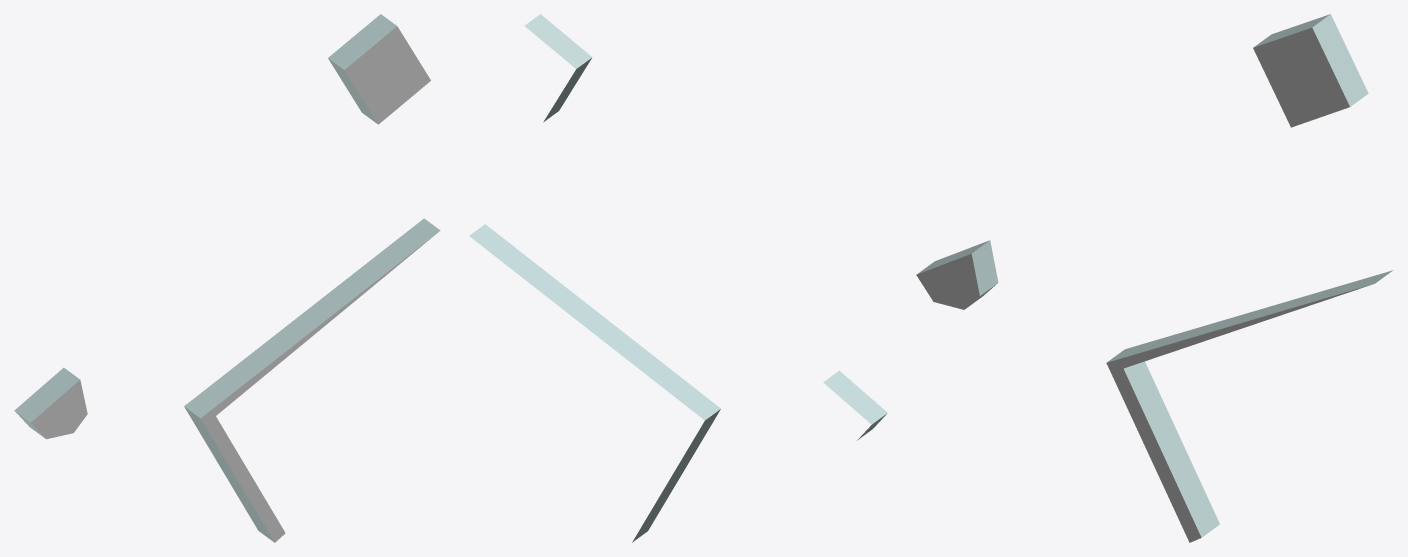
The picture shows the model from 3 angles, left to right: view 1: azimuth 30°, elevation 25°; view 2: azimuth 150°, elevation 25°; view 3: azimuth 330°, elevation 25°; orthographic projection. The views are drawn at different scales.
Parts seen in each view (by area): view 1: 0_1_2_1_0_2_0_1_0; view 2: 0_1_2_1_0_2_0_1_0; view 3: 0_1_2_1_0_2_0_1_0.
Boxes of the visible parts, x1,y1,x2,y2 form: 0_1_2_1_0_2_0_1_0: (14,14,440,542); 0_1_2_1_0_2_0_1_0: (469,14,887,542); 0_1_2_1_0_2_0_1_0: (916,14,1393,542).
Size of the model in its own units: 42.9 by 49.33 by 4.17.
